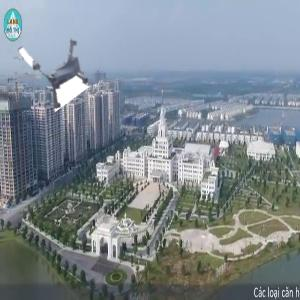drone: (24, 22, 102, 100)
